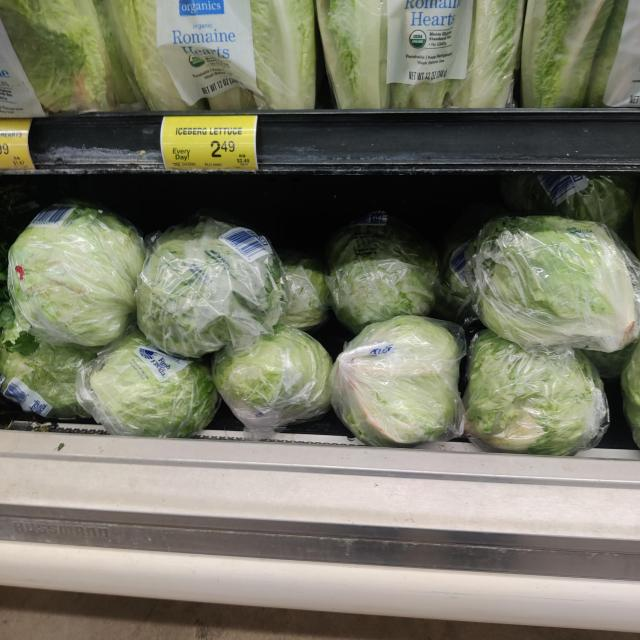Lettuce: (122, 0, 318, 114), (323, 0, 521, 111), (477, 219, 640, 350), (472, 327, 609, 461), (141, 218, 276, 348), (0, 0, 143, 116), (335, 316, 463, 445), (17, 205, 137, 338), (213, 327, 342, 424), (527, 0, 640, 106), (114, 332, 224, 438), (332, 220, 441, 322)
